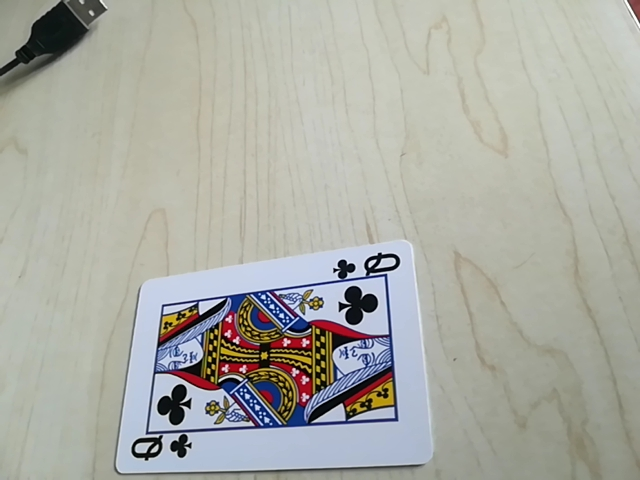mh q: (126, 430, 195, 468), (336, 248, 405, 281)
